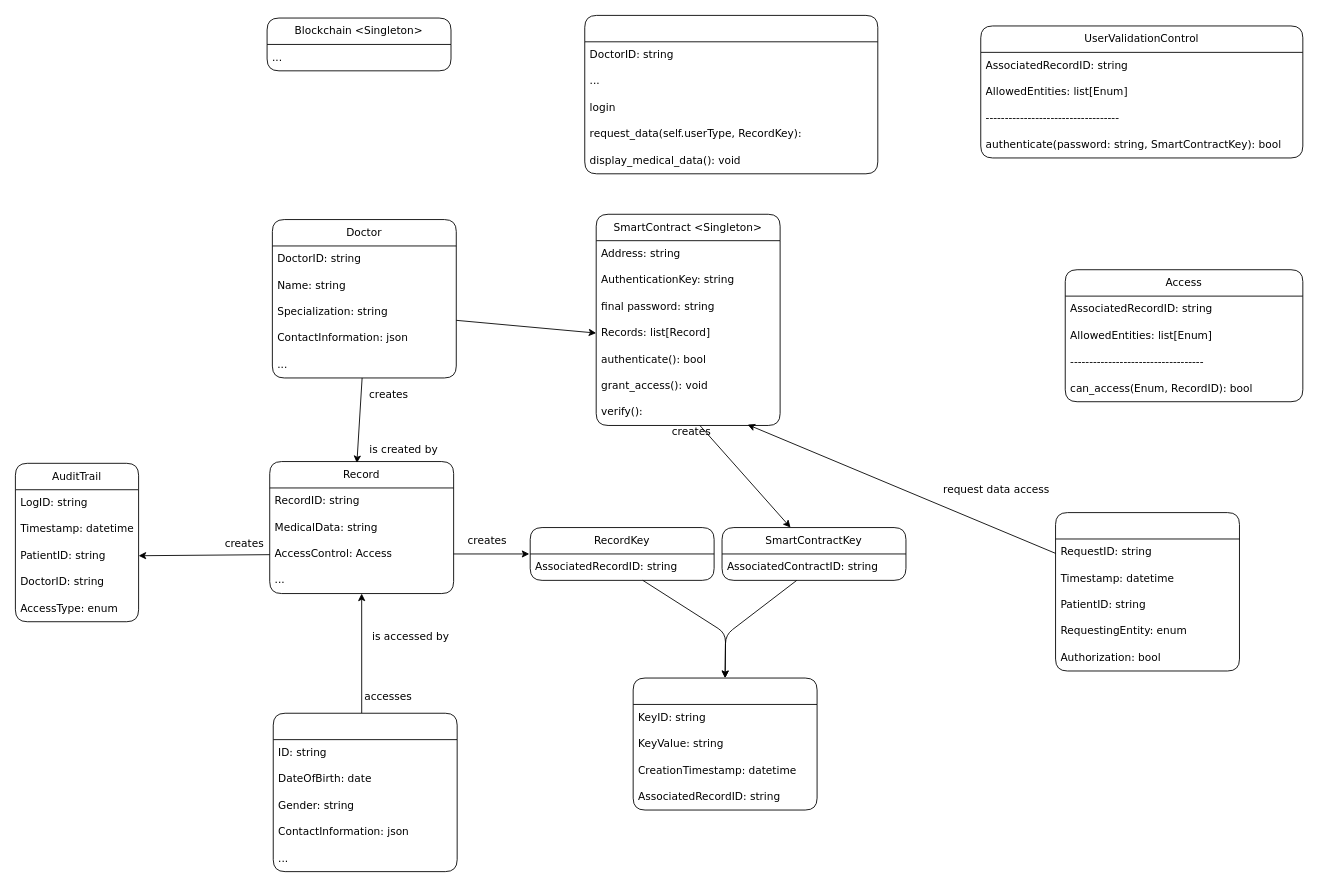
This 1318x887 diagram has some shape labels left out. Each missing label, with the box of its shape:
EmergencyAccess: (1055, 512, 1239, 671)
IKey: (632, 677, 817, 810)
Patient: (272, 712, 457, 872)
UserInterface <Singleton>: (584, 15, 878, 174)
